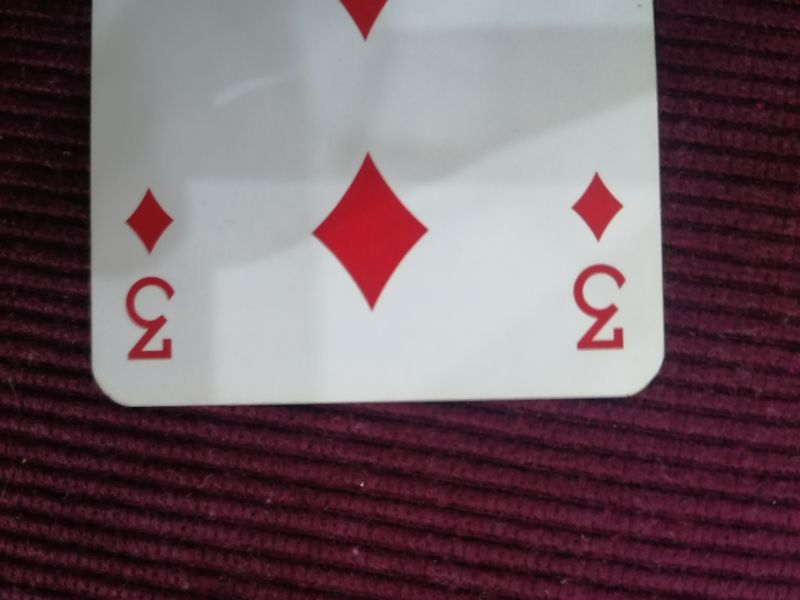3d: (561, 169, 635, 362), (121, 183, 182, 368)
